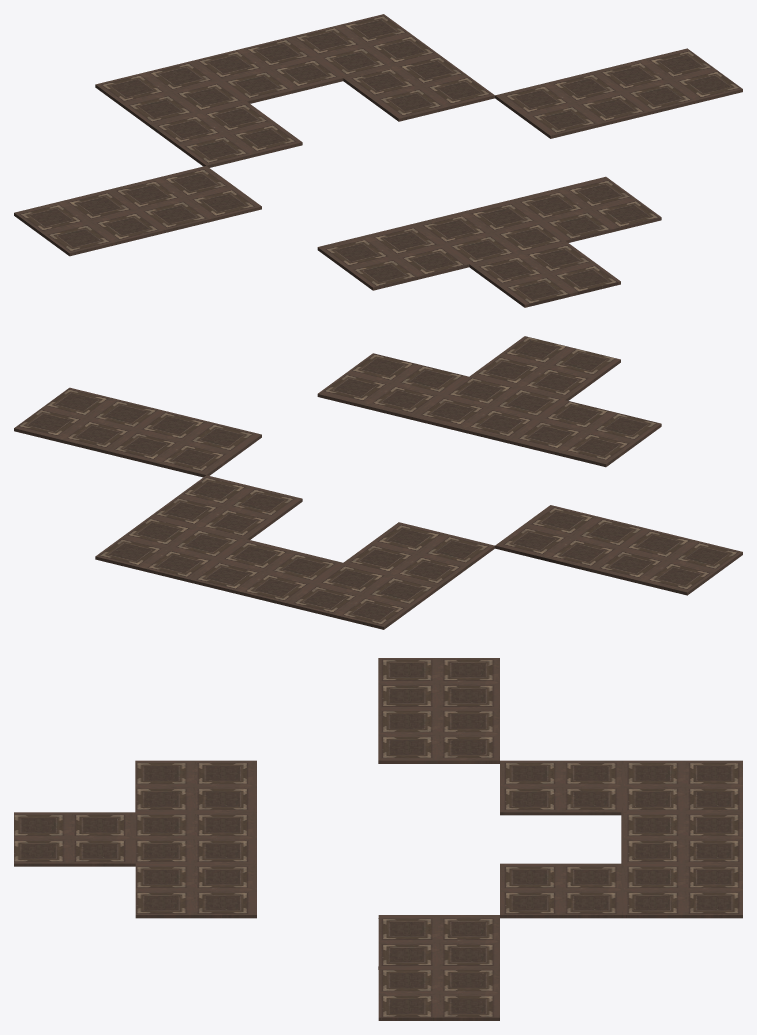
File: Homeworld_Interior_Ly_Room_C_Ceiling_01_Vo.fbx
3 views of the same model, one above another, from view 1: azimuth 30°, elevation 25°; view 2: azimuth 150°, elevation 25°; view 3: azimuth 270°, elevation 25° (orthographic). The views are drawn at different scales.
Parts seen in each view (by area): view 1: Homeworld_Interior_Ly_Room_C_Ceiling_01_Vo; view 2: Homeworld_Interior_Ly_Room_C_Ceiling_01_Vo; view 3: Homeworld_Interior_Ly_Room_C_Ceiling_01_Vo.
Part boxes in pixels (<box>): Homeworld_Interior_Ly_Room_C_Ceiling_01_Vo: <box>14,14,742,307</box>; Homeworld_Interior_Ly_Room_C_Ceiling_01_Vo: <box>14,336,742,629</box>; Homeworld_Interior_Ly_Room_C_Ceiling_01_Vo: <box>14,658,742,1020</box>.
Size of the model in its own units: 35 by 0.15 by 30.
